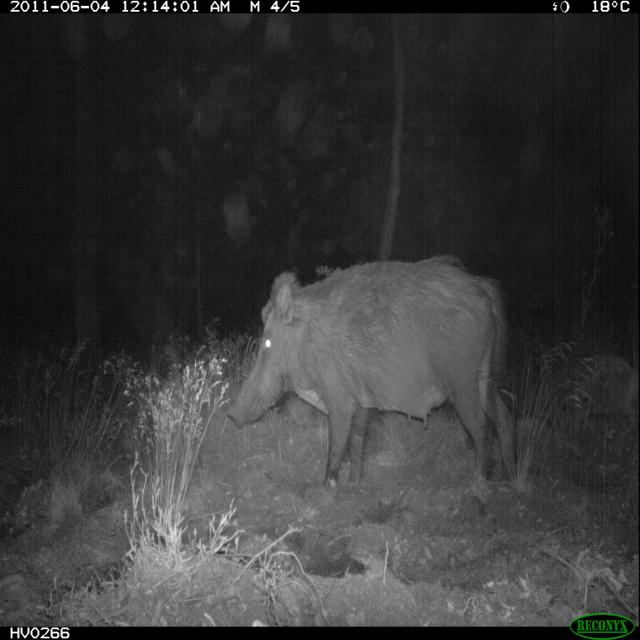boar: (192, 231, 552, 518)
